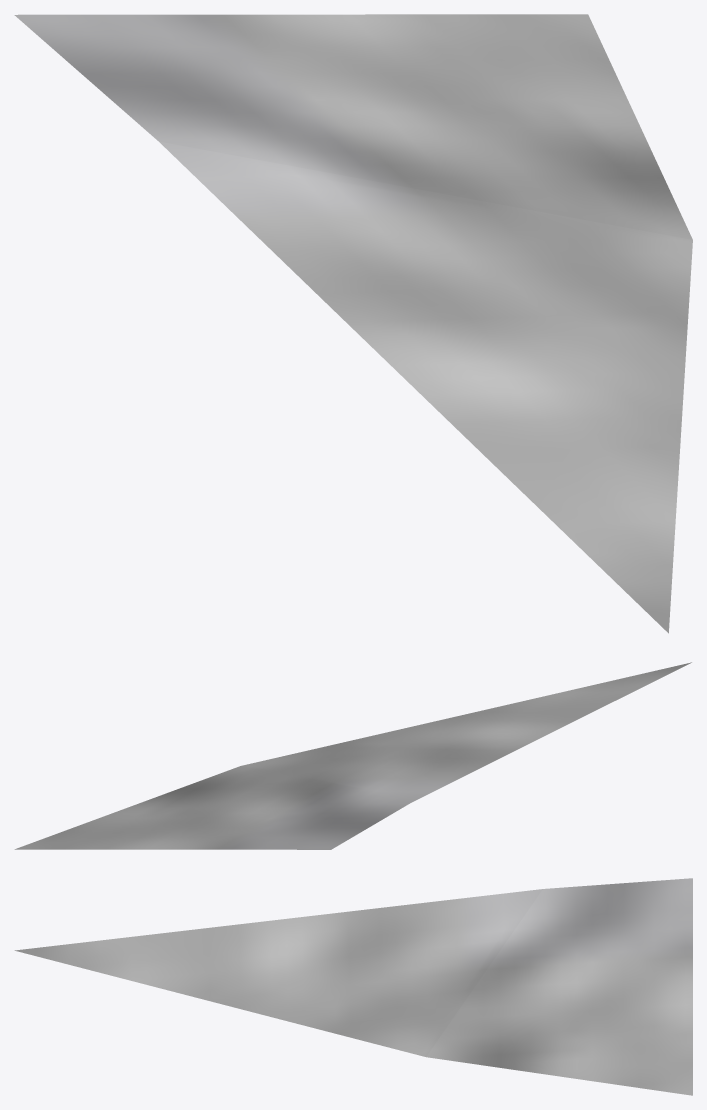
The picture shows the model from 3 angles, top to bottom: view 1: azimuth 30°, elevation 25°; view 2: azimuth 150°, elevation 25°; view 3: azimuth 270°, elevation 25°; orthographic projection. The views are drawn at different scales.
Size of the model in its own units: 0.0711 by 0.0165 by 0.1405.
Materials: 1 (1 with a texture image).
